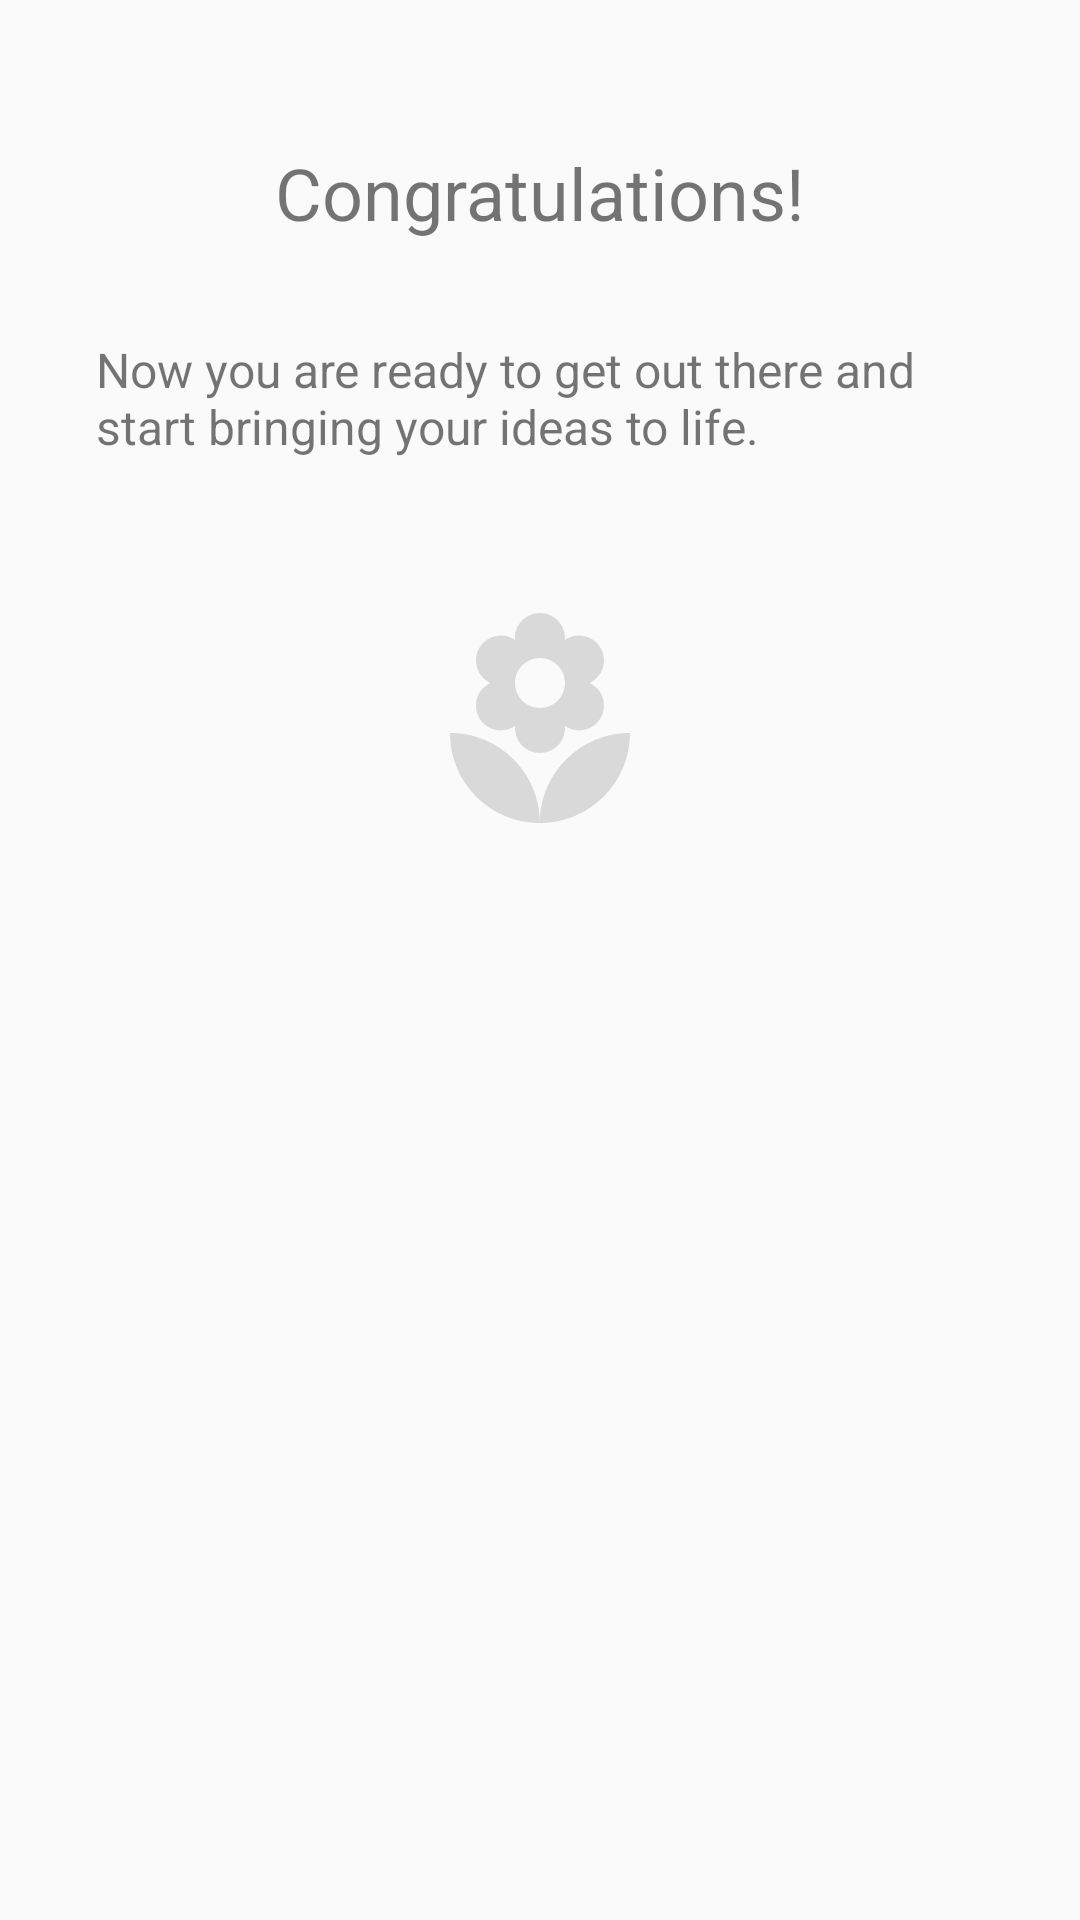

Icons on this 1080px x 1920px Android screen, each with its box as (x1, y1, x2, y2):
A Flower: (450, 613, 630, 823)
